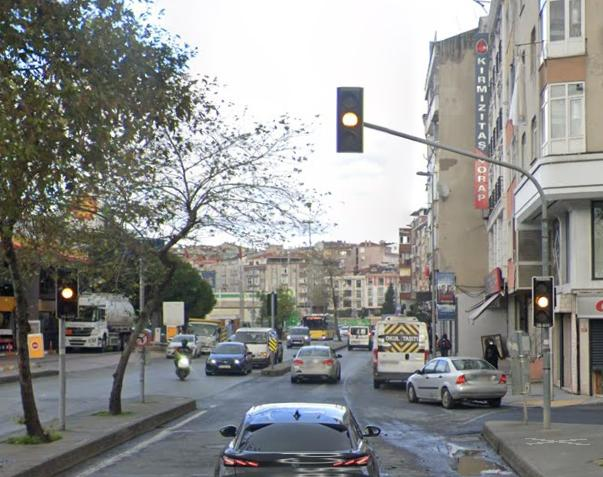yellowlight: (339, 88, 363, 148), (58, 268, 78, 315), (533, 279, 553, 321)
